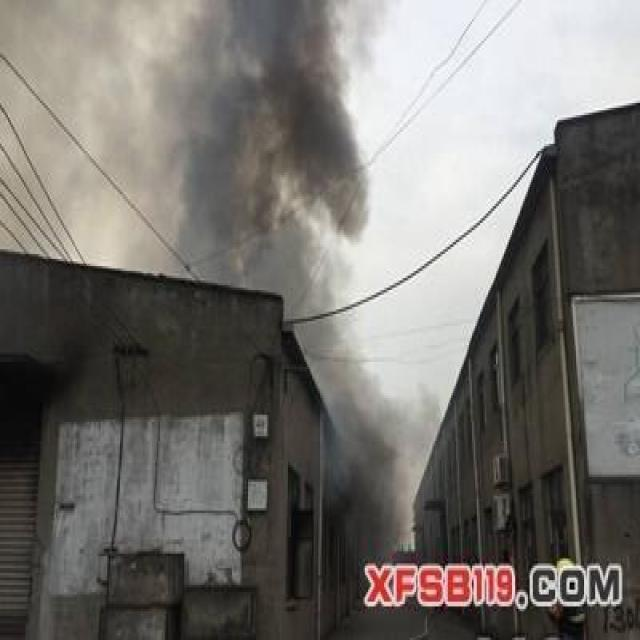Smoke: (0, 0, 443, 599)
